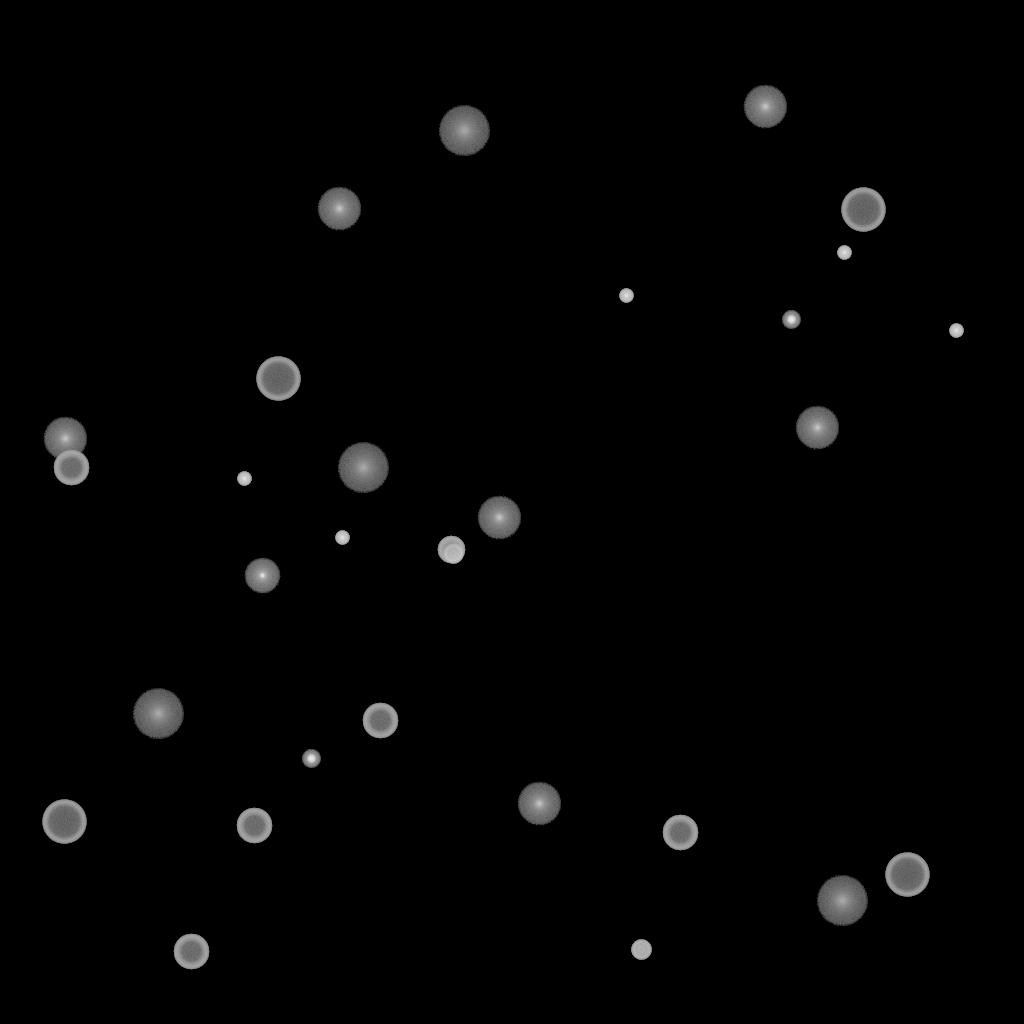depth:-20: (782, 311, 800, 329), (302, 750, 320, 768)
depth:-30: (619, 289, 633, 303), (335, 531, 349, 545), (837, 246, 851, 260), (949, 324, 963, 338), (237, 472, 251, 486)
depth:-40: (631, 940, 651, 960), (443, 544, 463, 564)
depth:-50: (437, 536, 465, 564)
depth:-60: (662, 815, 698, 851), (236, 808, 272, 844), (173, 934, 209, 970), (362, 703, 398, 739), (53, 450, 89, 486)
depth:-70: (885, 853, 929, 897), (256, 357, 300, 401), (841, 188, 885, 232), (42, 800, 86, 844)
depth:0: (244, 558, 280, 594)
depth:10: (477, 496, 521, 540), (517, 782, 561, 826), (317, 187, 361, 231), (43, 417, 87, 461), (743, 85, 787, 129), (795, 406, 839, 450)
depth:20: (438, 106, 490, 156), (337, 443, 389, 493), (132, 689, 184, 739), (816, 876, 868, 926)
